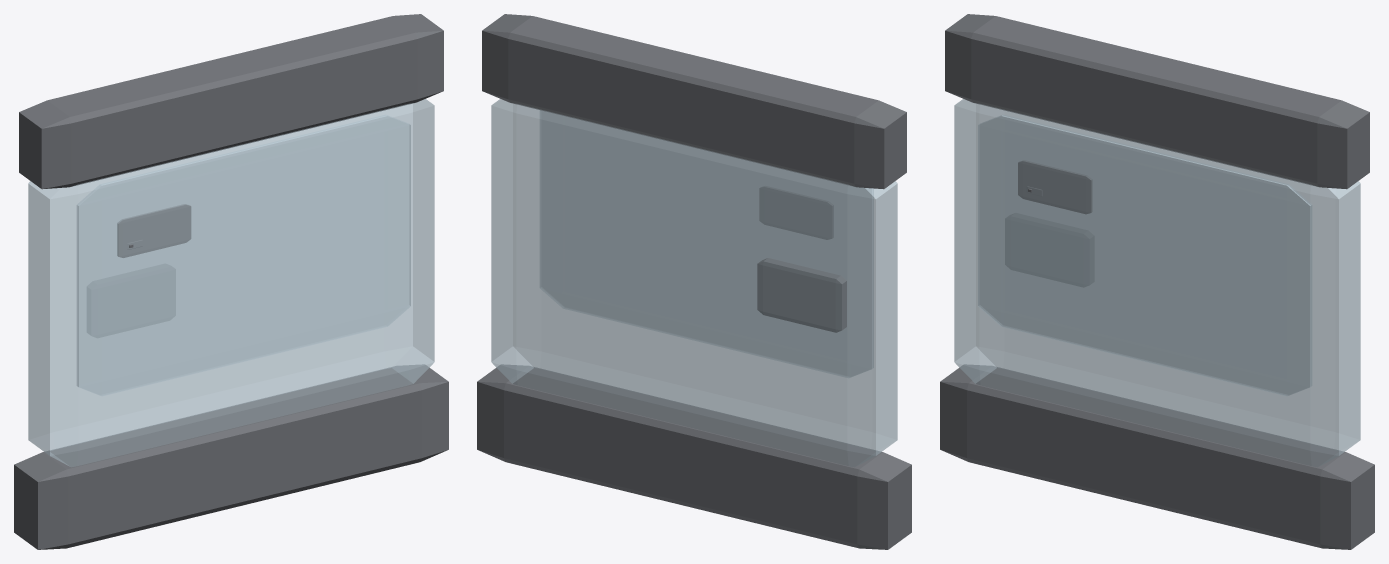
File: b12_round_attic_window.glb
3 views of the same model, side by side, from view 1: azimuth 30°, elevation 25°; view 2: azimuth 150°, elevation 25°; view 3: azimuth 330°, elevation 25° (orthographic).
Visible parts, largest first — view 1: b12_round_attic_window; view 2: b12_round_attic_window; view 3: b12_round_attic_window.
Boxes of the visible parts, <box> form: b12_round_attic_window: <box>14,14,448,549</box>; b12_round_attic_window: <box>477,14,911,549</box>; b12_round_attic_window: <box>940,14,1374,549</box>.
Bounding box in the file's own units: 1.21 × 1.21 × 0.142.
